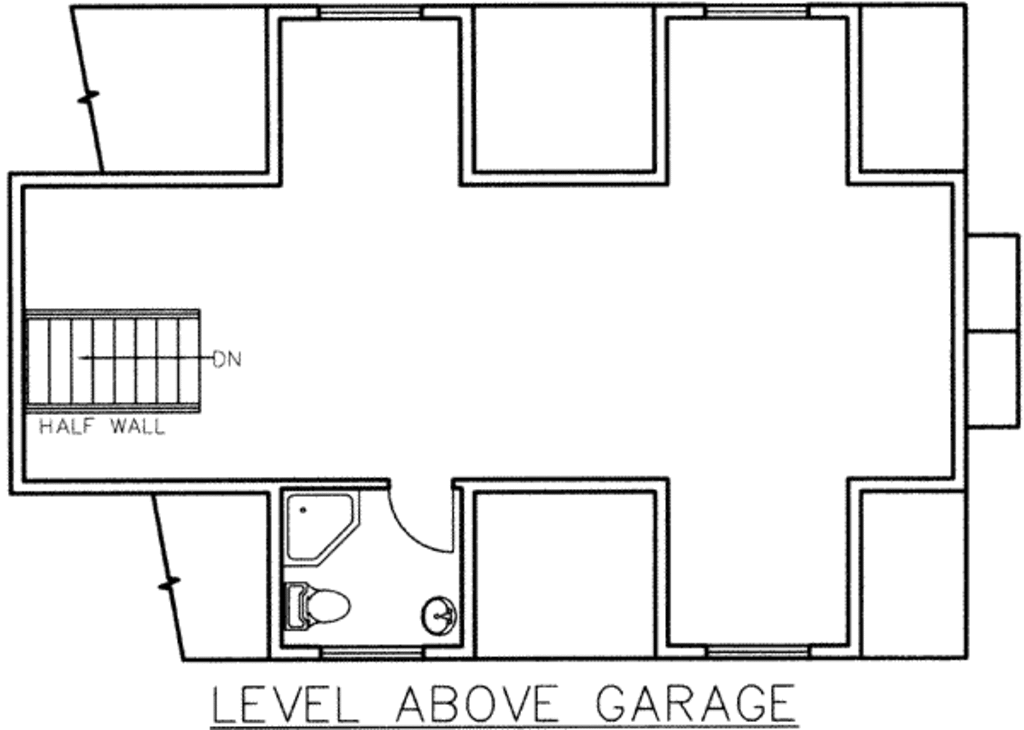door: (381, 470, 458, 553)
large_sink: (280, 578, 355, 637)
small_sink: (405, 589, 458, 638)
stairs: (22, 306, 203, 421)
window: (708, 635, 814, 661), (702, 1, 811, 23), (316, 6, 428, 18)
